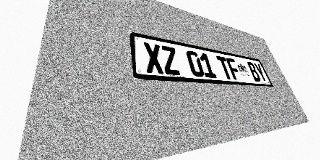0: (185, 50, 205, 77)
1: (198, 52, 217, 78)
B: (246, 61, 262, 82)
F: (225, 57, 243, 80)
T: (216, 56, 234, 80)
X: (142, 42, 165, 74)
Y: (253, 63, 268, 82)
Z: (160, 45, 181, 75)
